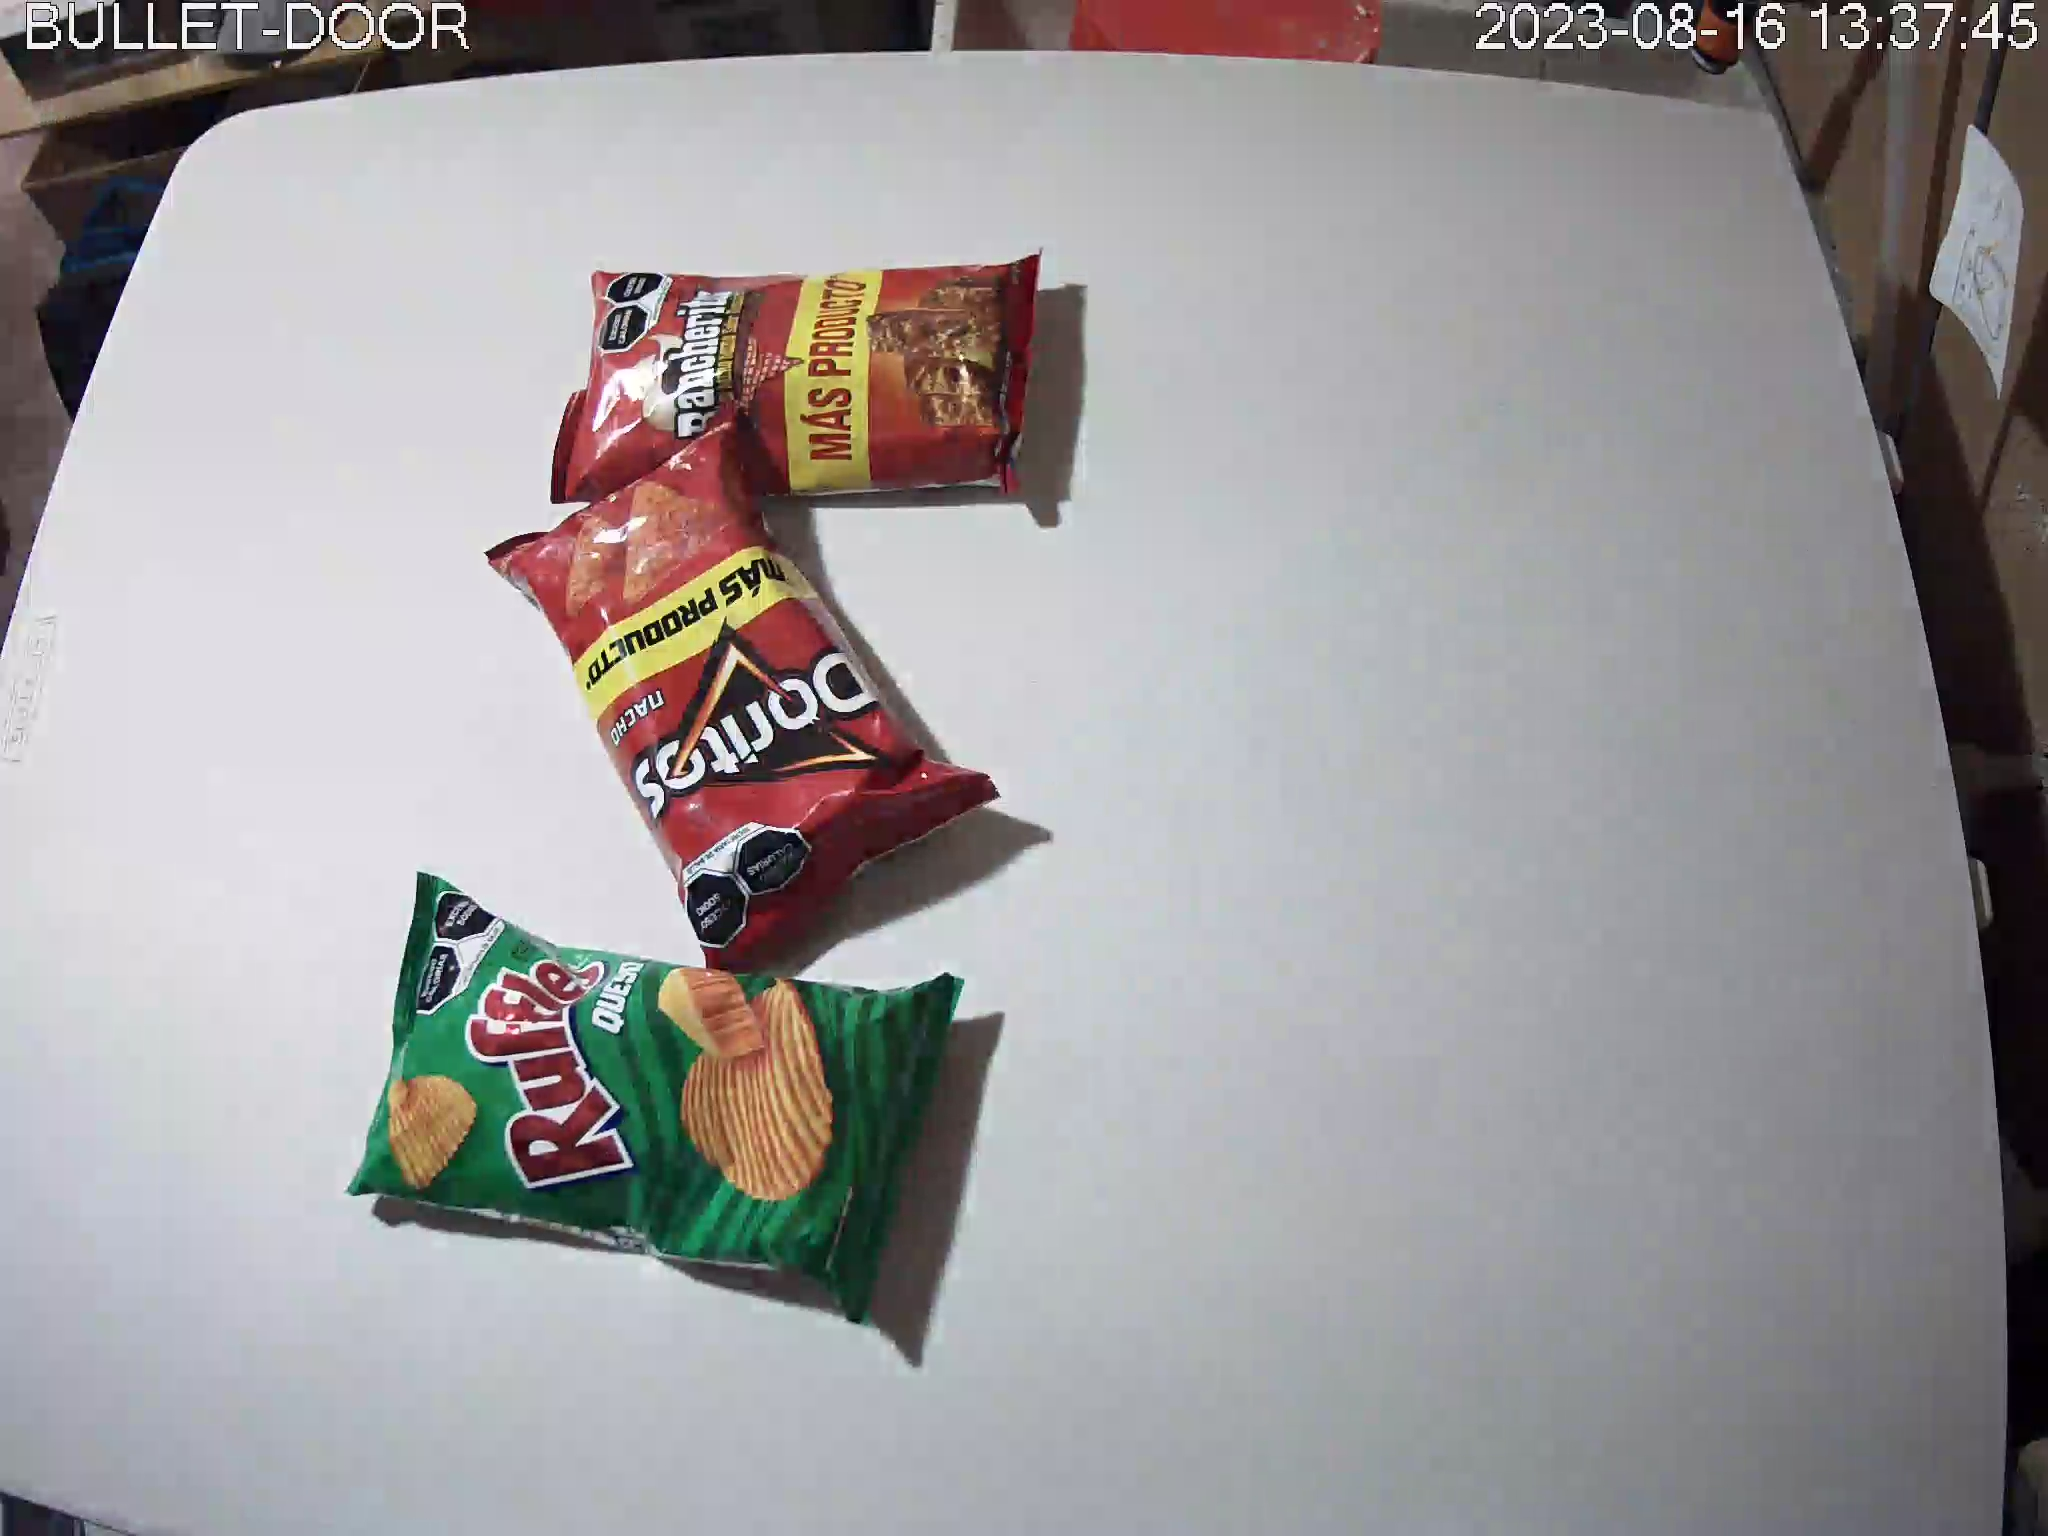DoritosN_61_F: (481, 402, 1005, 986)
Rancheritos_58_F: (552, 245, 1043, 503)
RufflesQ_48_F: (345, 871, 964, 1329)
